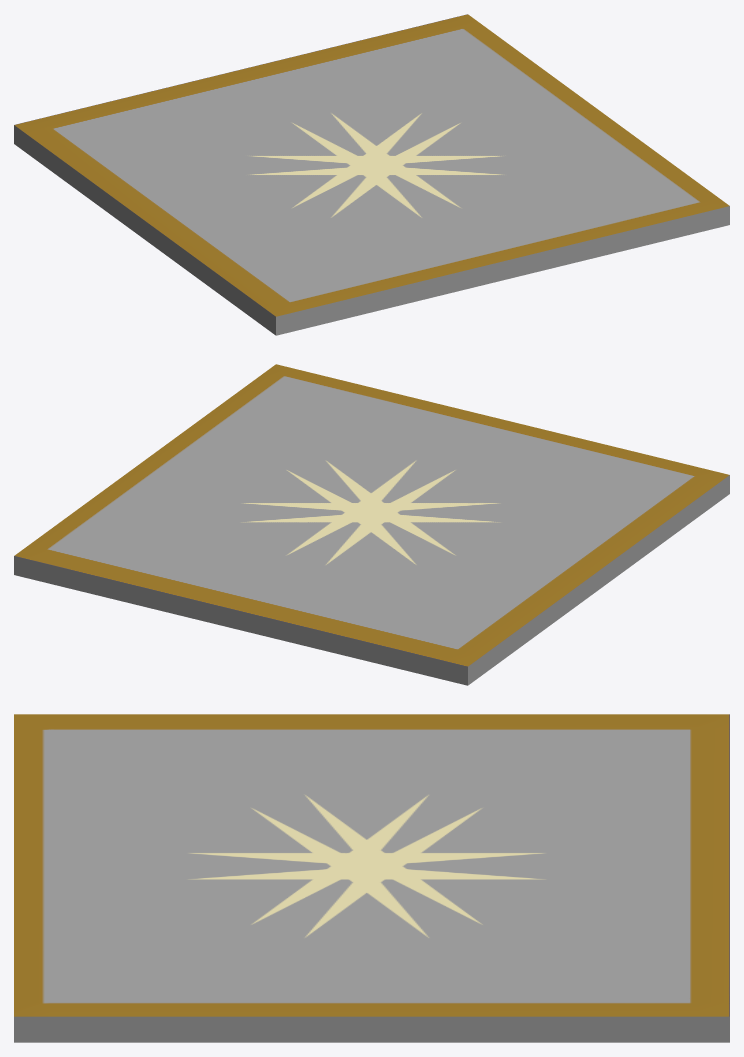
File: Orange_GridPiece.fbx
3 views of the same model, one above another, from view 1: azimuth 30°, elevation 25°; view 2: azimuth 150°, elevation 25°; view 3: azimuth 270°, elevation 25° (orthographic). The views are drawn at different scales.
Parts seen in each view (by area): view 1: Orange_GridPiece; view 2: Orange_GridPiece; view 3: Orange_GridPiece.
Part boxes in pixels (bbox=[...]): Orange_GridPiece: bbox=[14, 14, 729, 335]; Orange_GridPiece: bbox=[14, 364, 729, 685]; Orange_GridPiece: bbox=[14, 714, 729, 1042].
Bounding box in the file's own units: 100 × 4.15 × 100.
